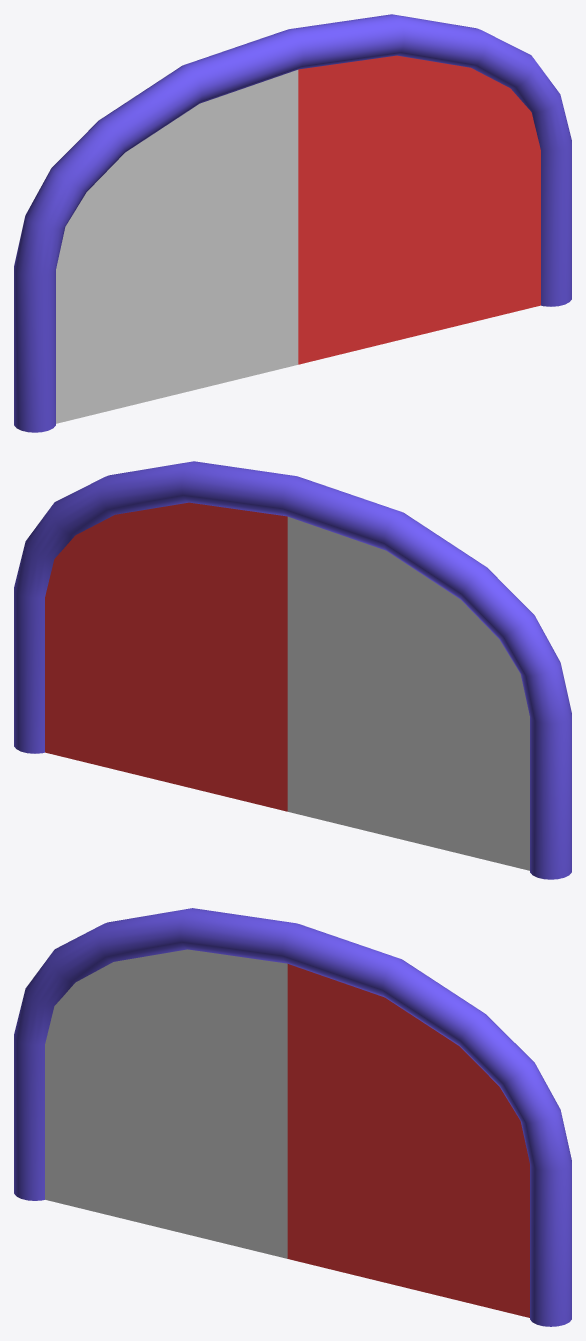
Rendered from Arch_with_doors.FBX.
3 views of the same model, one above another, from view 1: azimuth 30°, elevation 25°; view 2: azimuth 150°, elevation 25°; view 3: azimuth 330°, elevation 25° (orthographic).
Visible parts, largest first — view 1: Door_right, Door_left, Cylinder003; view 2: Door_right, Door_left, Cylinder003; view 3: Door_left, Door_right, Cylinder003.
Part boxes in pixels (x1,y1,x2,y2): Door_right: (298,55,540,364); Door_left: (56,70,298,423); Cylinder003: (14,14,571,432); Door_right: (45,502,287,811); Door_left: (287,517,529,870); Cylinder003: (14,461,571,879); Door_left: (45,949,287,1258); Door_right: (287,964,529,1317); Cylinder003: (14,908,571,1326).
Size of the model in its own units: 7.46 by 4.26 by 0.4914.
